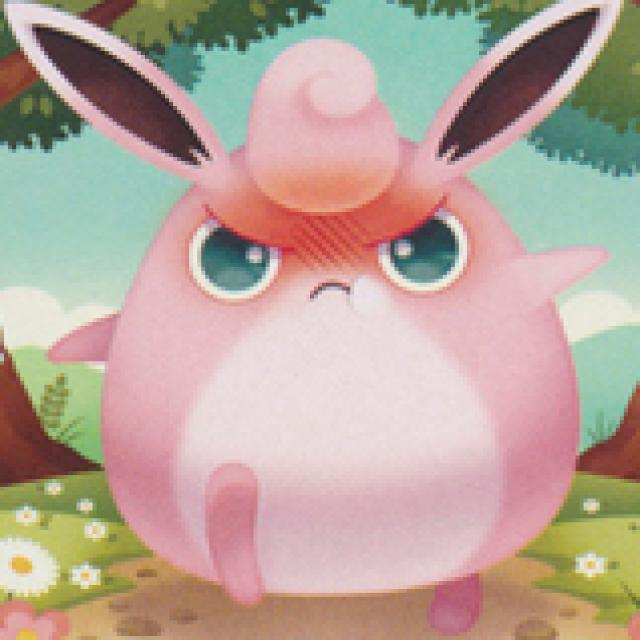Wigglytuff: (94, 36, 578, 595)
